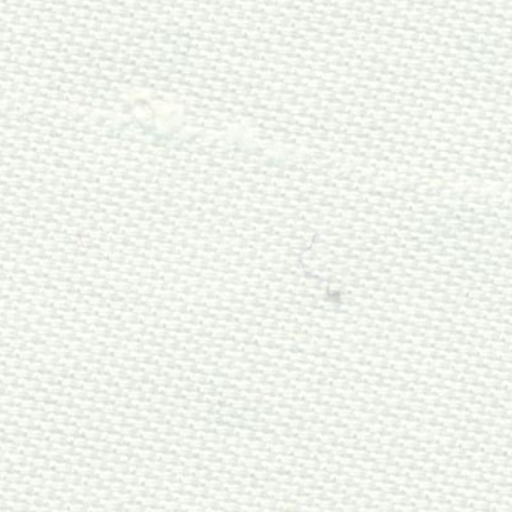DaiSha: (40, 68, 460, 198)
